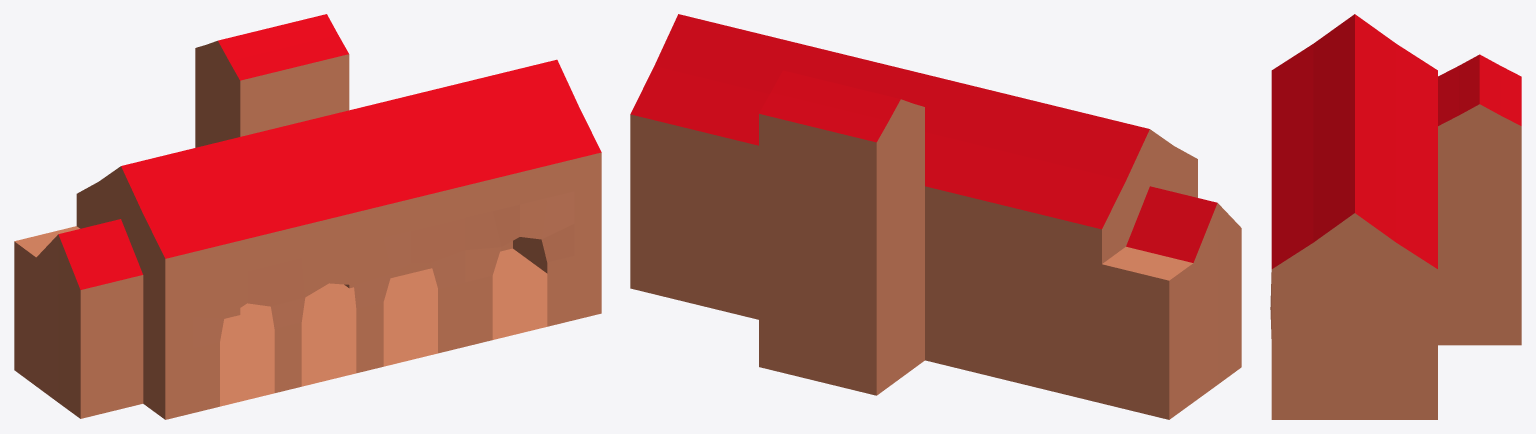
The model's file is Barracks.fbx.
The picture shows the model from 3 angles, left to right: view 1: azimuth 30°, elevation 25°; view 2: azimuth 150°, elevation 25°; view 3: azimuth 270°, elevation 25°; orthographic projection. The views are drawn at different scales.
Visible parts, largest first — view 1: Cube; view 2: Cube; view 3: Cube.
Boxes of the visible parts, x1,y1,x2,y2 form: Cube: [14, 14, 601, 419]; Cube: [630, 14, 1241, 419]; Cube: [1270, 14, 1521, 419].
Size of the model in its own units: 648 by 320 by 302.
